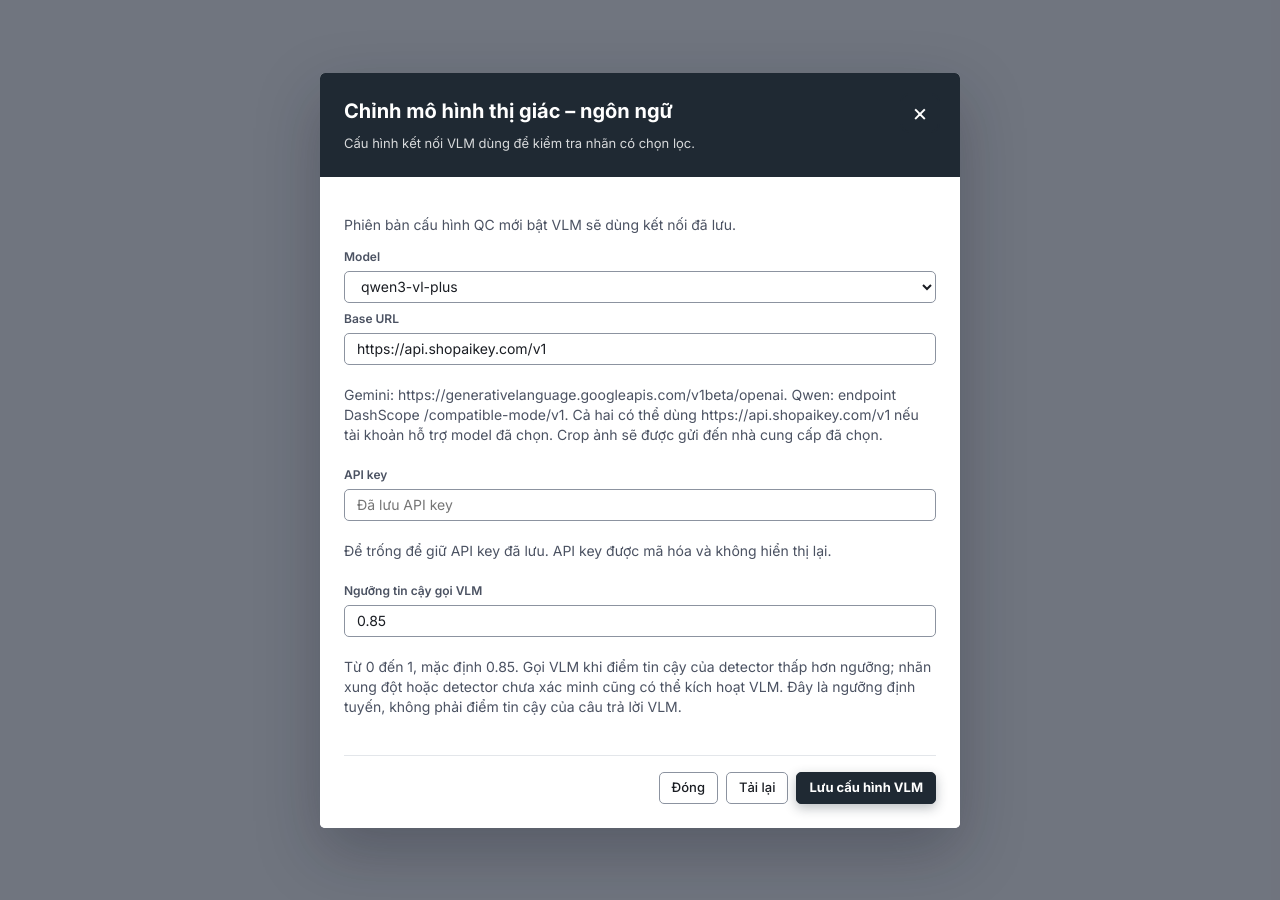
Test: VLM settings › reload restores the saved threshold and discards unsaved key and endpoint
Replace the text in the number field labelled "Ngưỡng tin cậy gọi VLM" with "0.50" at (640,620), box [344,604,936,636]
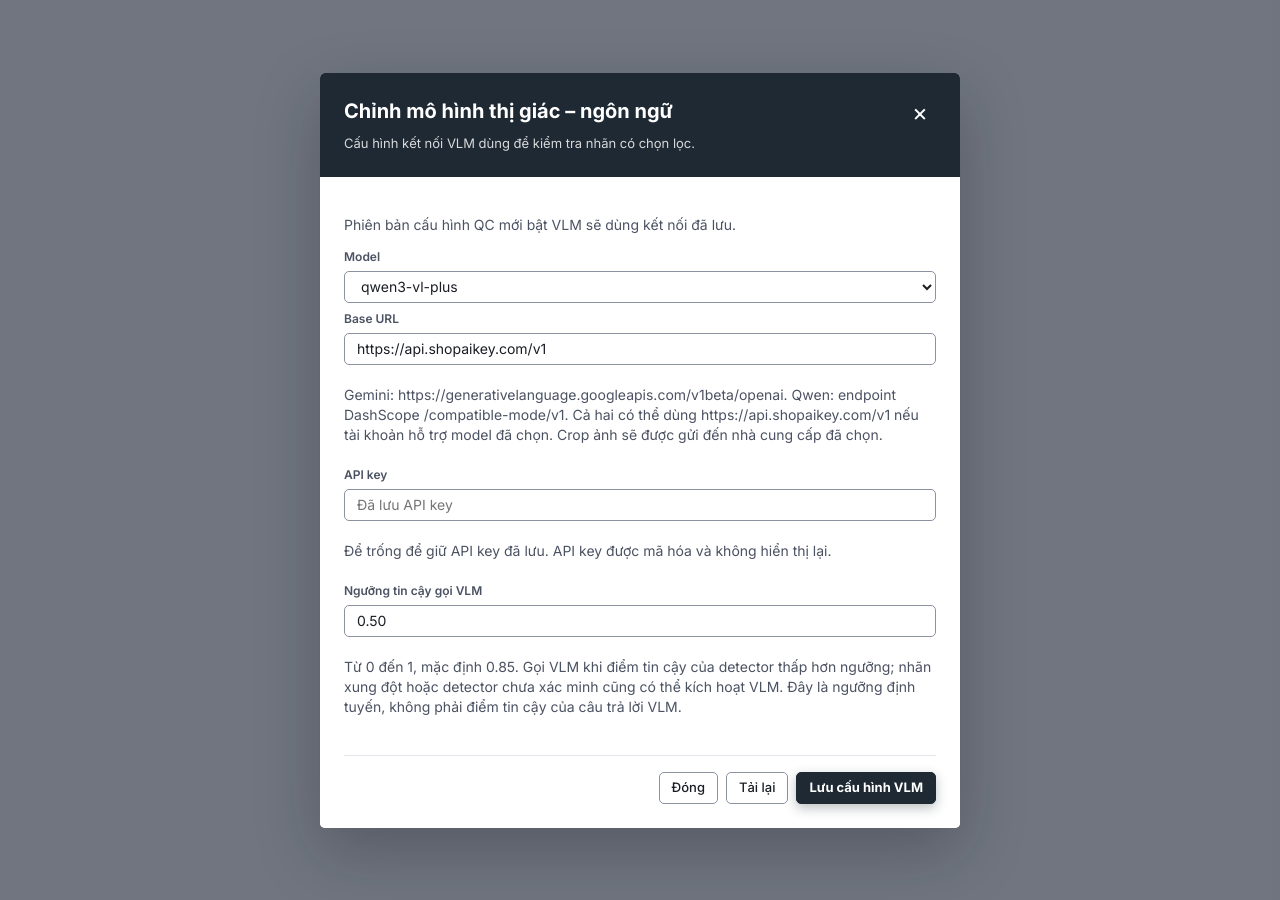
Replace the text in the field labelled "Base URL" with "https://dashscope-intl.aliyuncs.com/compatible-mode/v1" at (640,348), box [344,332,936,364]
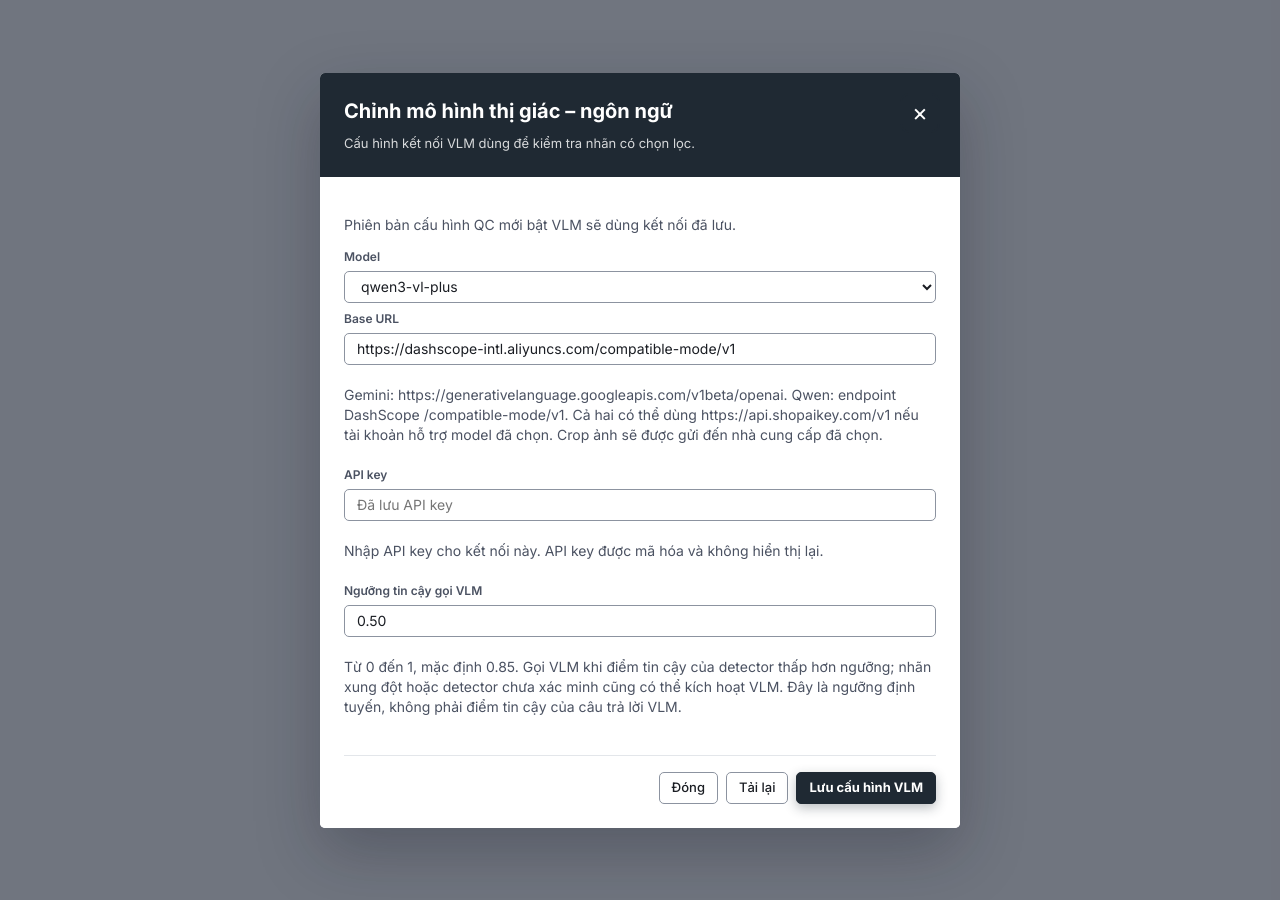
Type "discard-secret" into the password field labelled "API key" at (640,504), box [344,488,936,520]
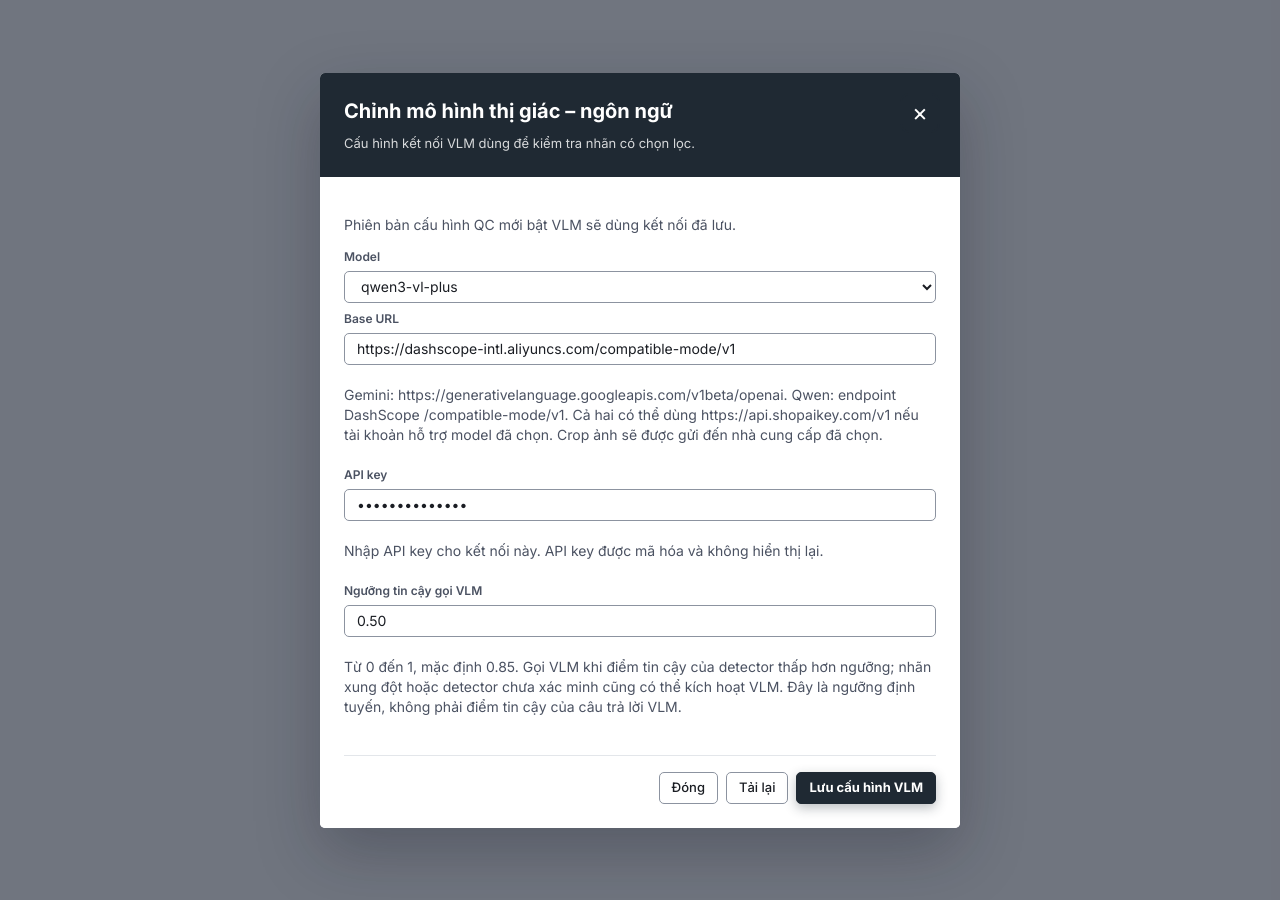
Click the button "Tải lại" at (757,788), box [726,772,788,804]
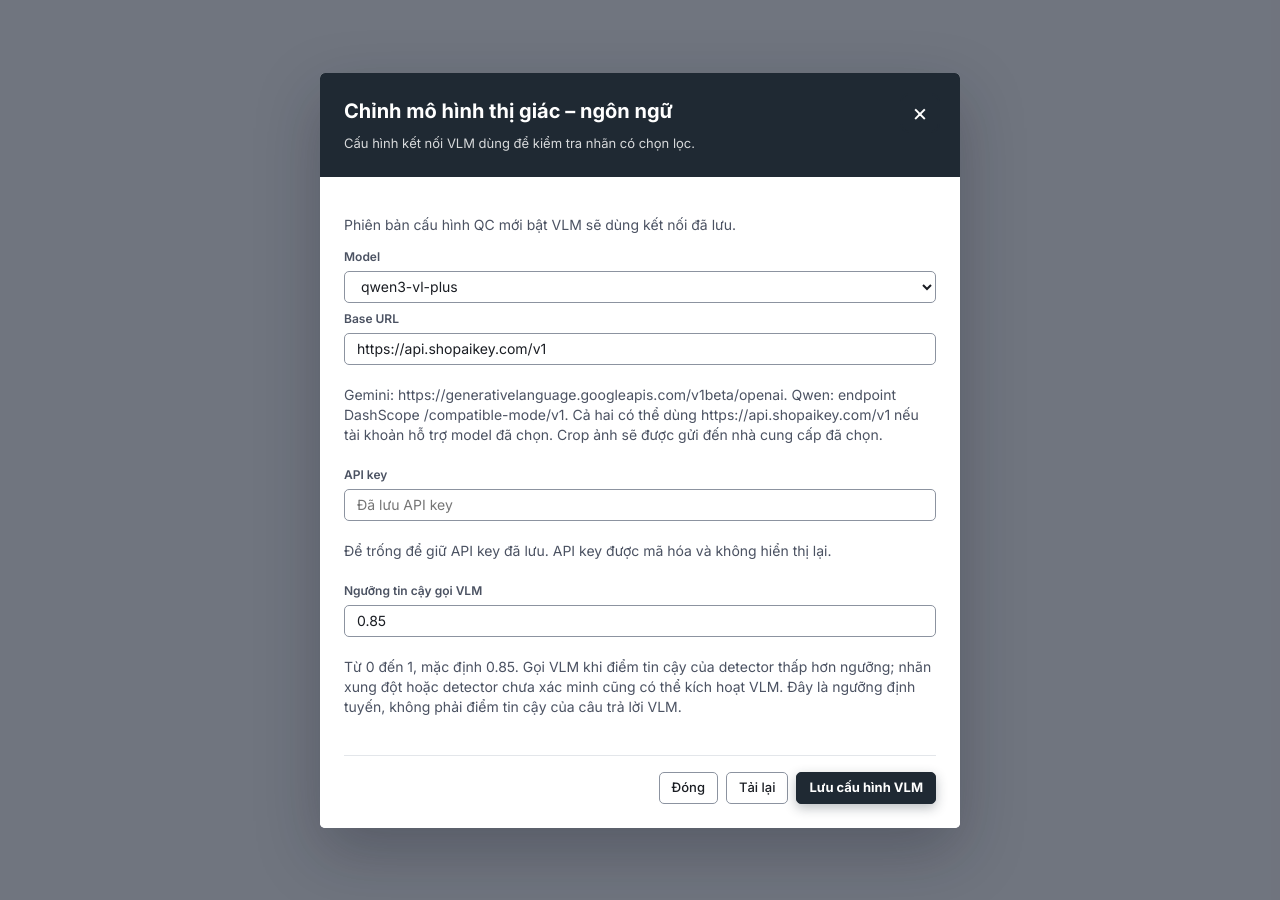
Now the number field labelled "Ngưỡng tin cậy gọi VLM" holds "0.85", box [344,604,936,636]
Now the field labelled "Base URL" holds "https://api.shopaikey.com/v1", box [344,332,936,364]
Now the password field labelled "API key" is empty, box [344,488,936,520]
